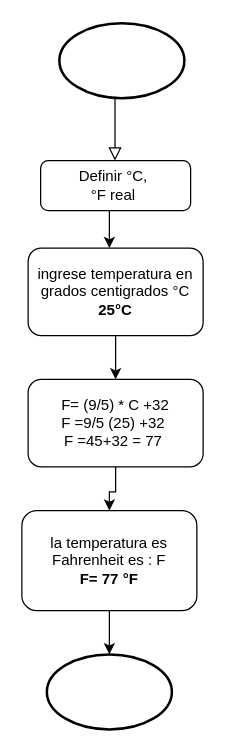
Some shapes in this 225 by 751 pixel diagram are drawn without their labels. Here are the shapes that lost their labels. From the top down, the centre of each, then its label:
At pixel 121 60: "inicio".
At pixel 108 691: "Fin".
